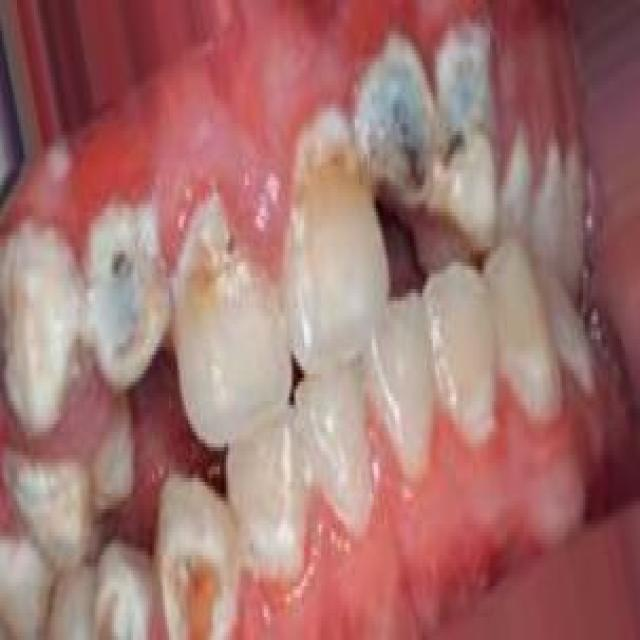caries: (154, 509, 228, 640), (368, 66, 432, 195), (436, 121, 476, 198), (87, 579, 136, 640)
